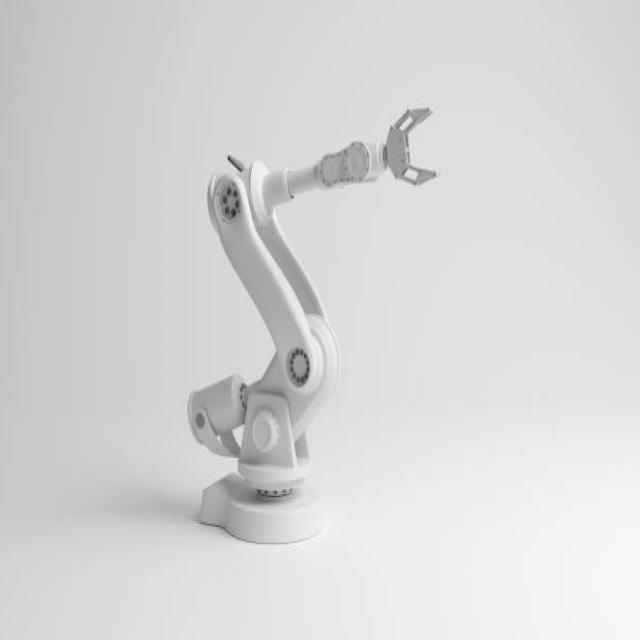Robotic-arm: (175, 91, 445, 552)
